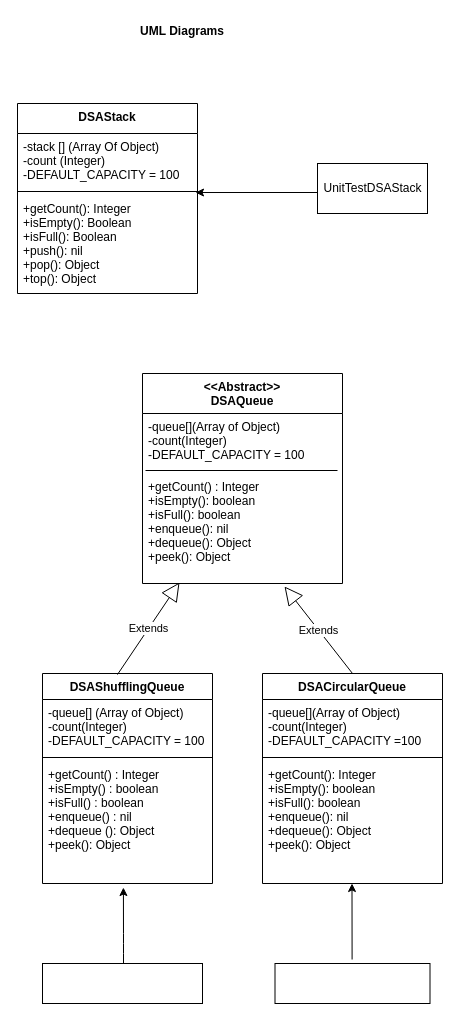
Some shapes in this 460 by 1021 pixel diagram are drawn without their labels. Each missing label, with the centre of its shape:
"UnitTestDSACircularQueue" goes at pixel 352 983.
"UnitTestDSAShufflingQueue" goes at pixel 122 983.
